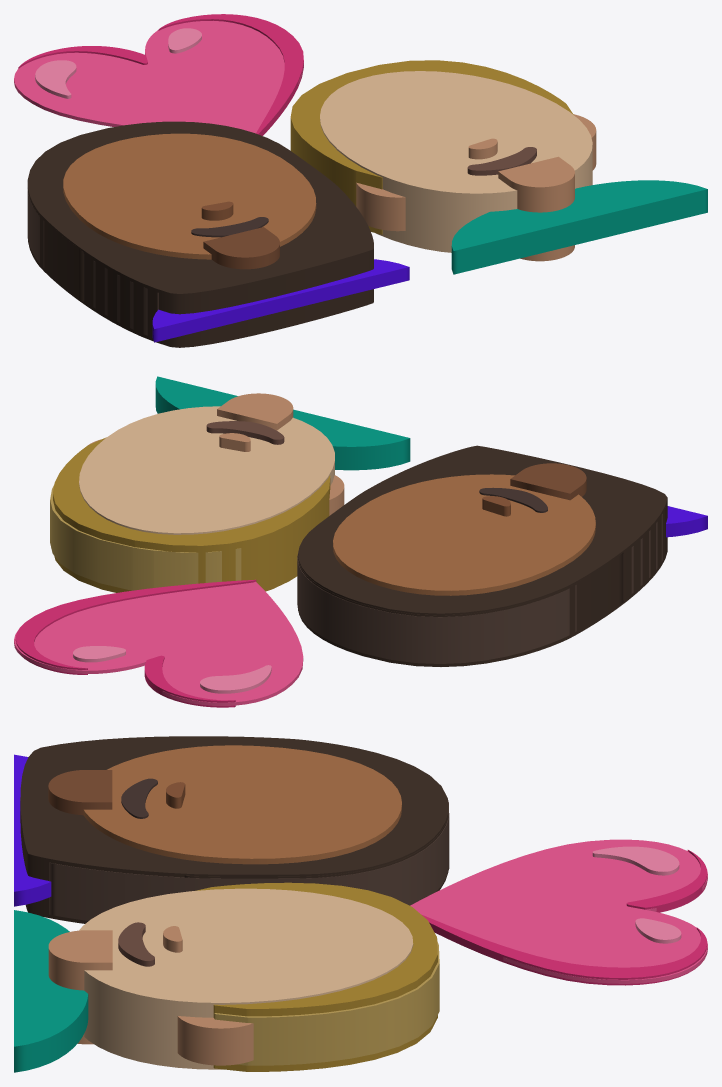
The model's file is emoji_u1f469_1f3fe_200d_2764_200d_1f468_1f3fc.glb.
3 views of the same model, one above another, from view 1: azimuth 30°, elevation 25°; view 2: azimuth 150°, elevation 25°; view 3: azimuth 270°, elevation 25° (orthographic). The views are drawn at different scales.
Visible parts, largest first — view 1: emoji_u1f469_1f3fe_200d_2764_200d_1f468_1f3fc; view 2: emoji_u1f469_1f3fe_200d_2764_200d_1f468_1f3fc; view 3: emoji_u1f469_1f3fe_200d_2764_200d_1f468_1f3fc.
Part boxes in pixels (<box>): emoji_u1f469_1f3fe_200d_2764_200d_1f468_1f3fc: <box>14,14,707,347</box>; emoji_u1f469_1f3fe_200d_2764_200d_1f468_1f3fc: <box>14,376,707,707</box>; emoji_u1f469_1f3fe_200d_2764_200d_1f468_1f3fc: <box>14,736,707,1072</box>.
Size of the model in its own units: 0.0345 by 0.005 by 0.0339.
